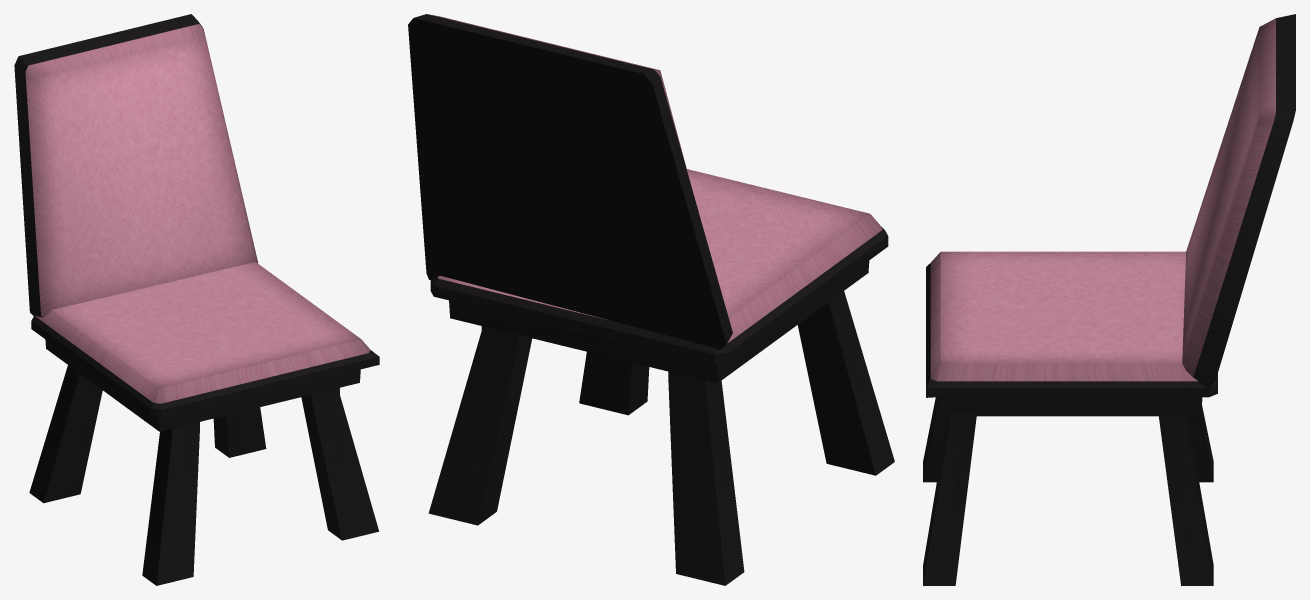
The model's file is Dining_Room_Chair_H.FBX.
3 renders of one model, left to right at view 1: azimuth 30°, elevation 25°; view 2: azimuth 150°, elevation 25°; view 3: azimuth 270°, elevation 25°, orthographic. The views are drawn at different scales.
Parts seen in each view (by area): view 1: Dining_Chair; view 2: Dining_Chair; view 3: Dining_Chair.
Part boxes in pixels (x1,y1,x2,y2): Dining_Chair: (14, 14, 379, 585); Dining_Chair: (408, 14, 894, 585); Dining_Chair: (923, 14, 1295, 585).
Size of the model in its own units: 121 by 208 by 152.
